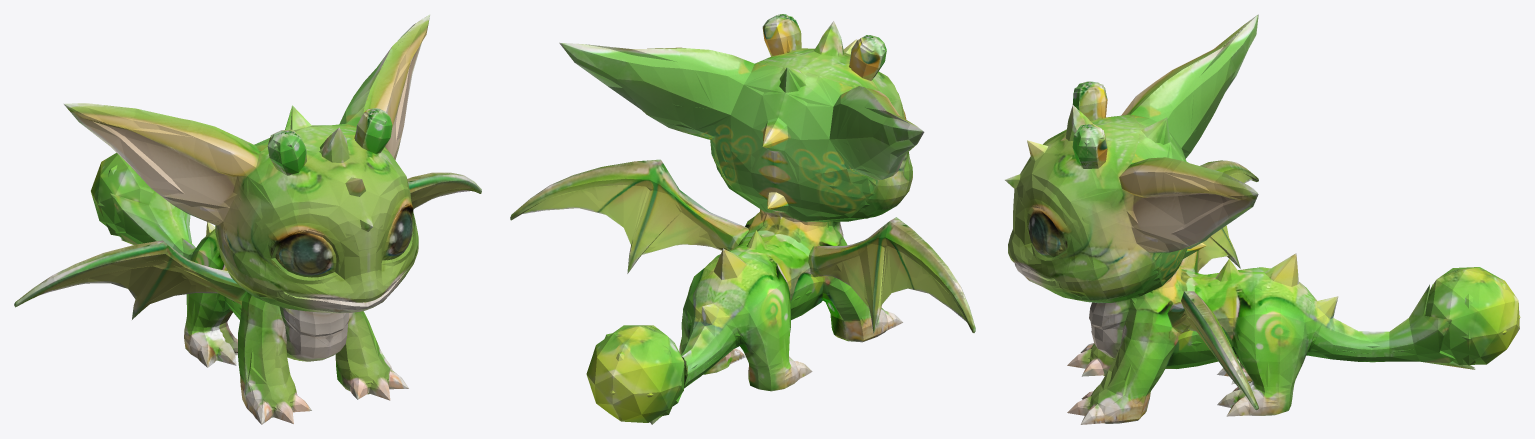
The model's file is dragon_grass.glb.
3 renders of one model, left to right at view 1: azimuth 30°, elevation 25°; view 2: azimuth 150°, elevation 25°; view 3: azimuth 270°, elevation 25°, orthographic.
Size of the model in its own units: 1.8 by 1.05 by 1.71.
1 material, 1 textured.
